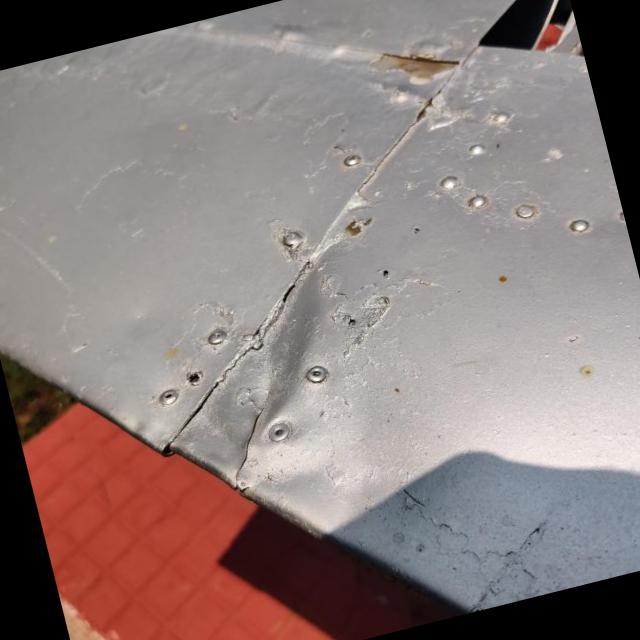Crack: (231, 403, 268, 498)
Paint-off: (371, 52, 459, 83), (345, 217, 372, 236)
